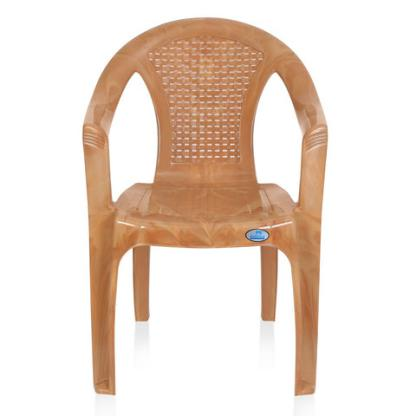chair: (84, 17, 327, 400)
